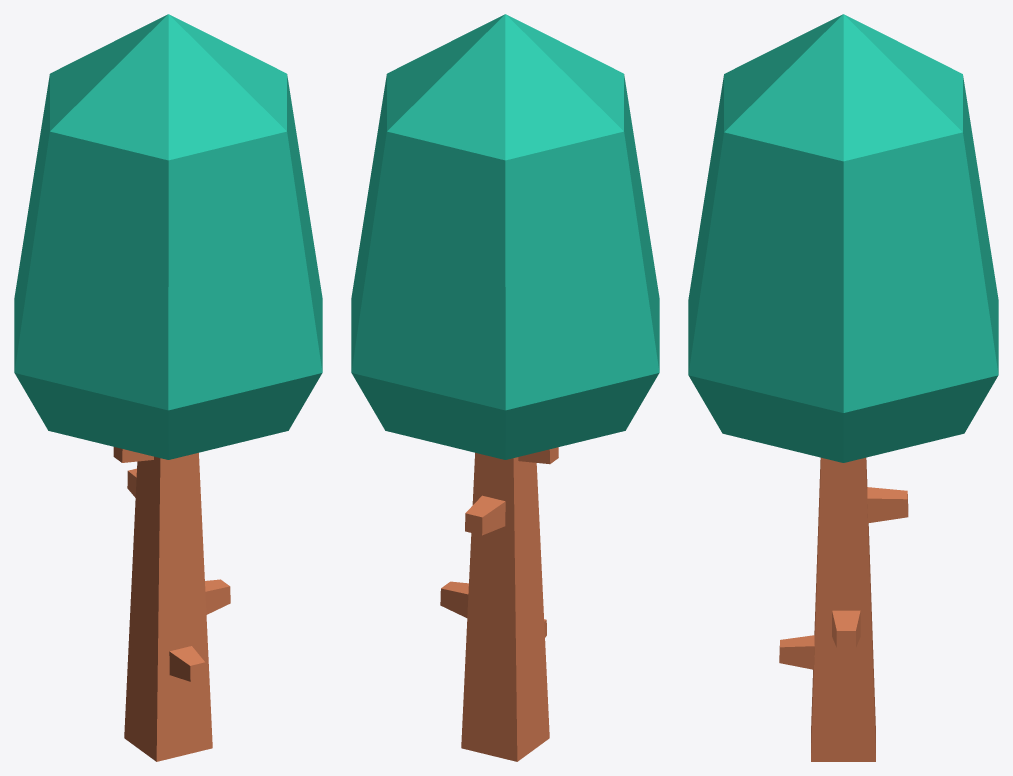
Rendered from Tree Default.glb.
3 renders of one model, left to right at view 1: azimuth 30°, elevation 25°; view 2: azimuth 150°, elevation 25°; view 3: azimuth 270°, elevation 25°, orthographic.
Parts seen in each view (by area): view 1: tree_default; view 2: tree_default; view 3: tree_default.
Boxes of the visible parts, bbox=[...] form: tree_default: bbox=[14, 14, 322, 761]; tree_default: bbox=[351, 14, 659, 761]; tree_default: bbox=[688, 14, 998, 761].
Bounding box in the file's own units: 0.755 × 1.71 × 0.6538.
